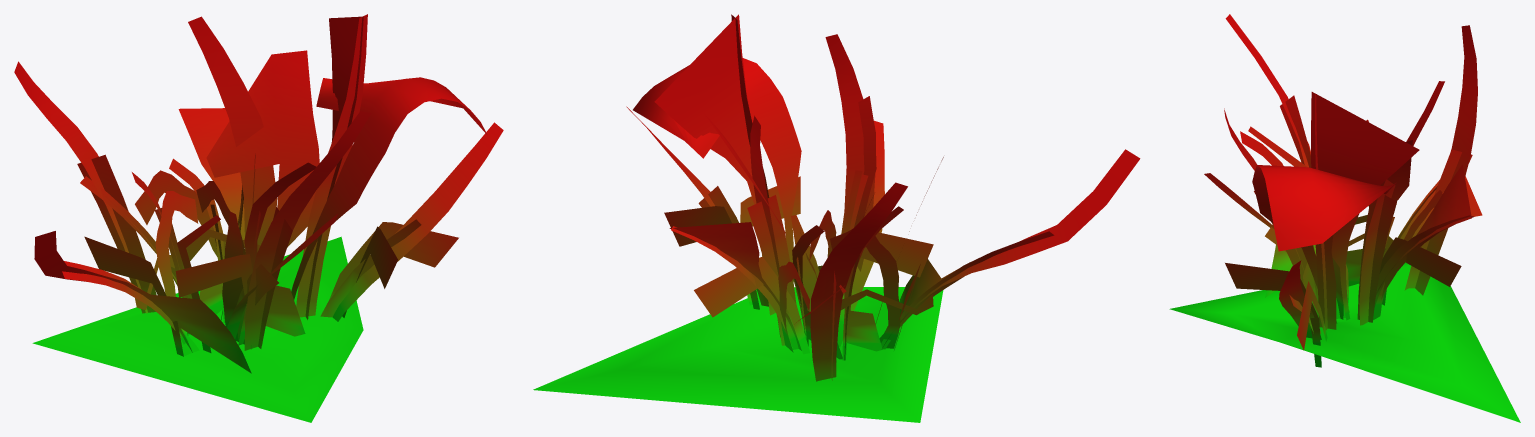
File: tbbqejqr_Var4_LOD0.fbx
3 renders of one model, left to right at view 1: azimuth 30°, elevation 25°; view 2: azimuth 150°, elevation 25°; view 3: azimuth 270°, elevation 25°, orthographic. The views are drawn at different scales.
Visible parts, largest first — view 1: _3b06_Var4_LOD0; view 2: _3b06_Var4_LOD0; view 3: _3b06_Var4_LOD0.
Boxes of the visible parts, x1,y1,x2,y2 form: _3b06_Var4_LOD0: [14, 14, 503, 422]; _3b06_Var4_LOD0: [533, 14, 1140, 422]; _3b06_Var4_LOD0: [1169, 14, 1520, 422].
Bounding box in the file's own units: 11.08 × 6.96 × 7.66.
